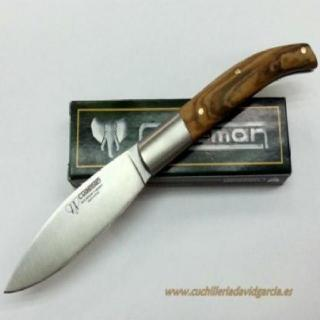knife: (2, 134, 164, 296)
